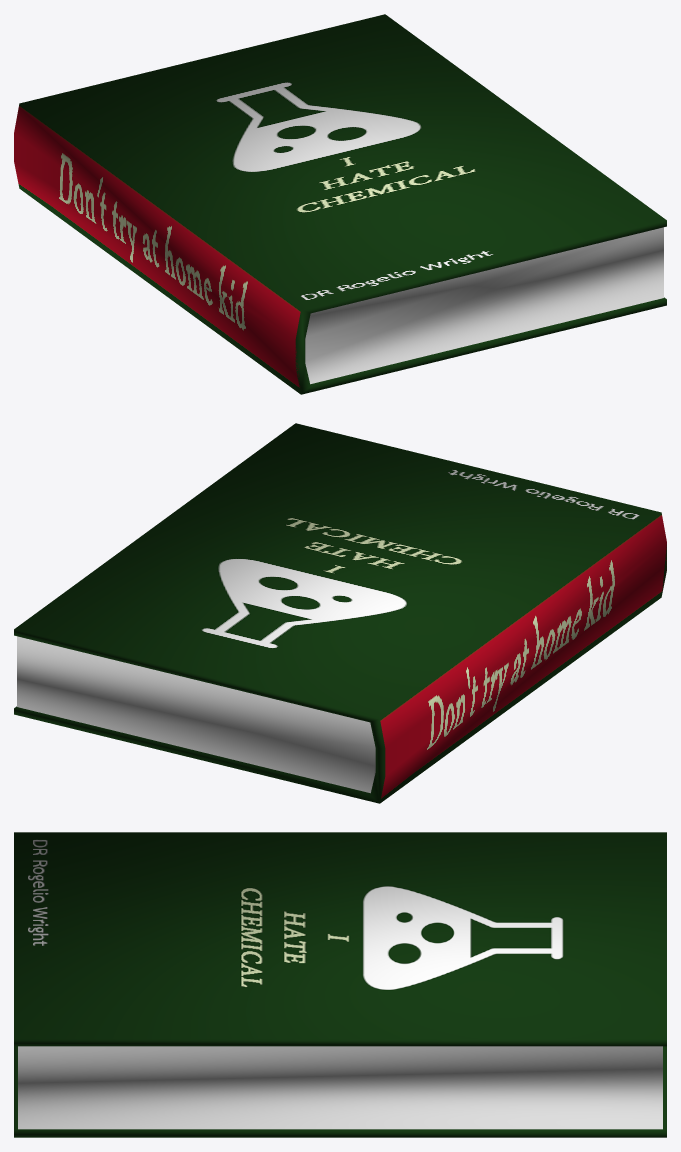
The model's file is Book.fbx.
The picture shows the model from 3 angles, top to bottom: view 1: azimuth 30°, elevation 25°; view 2: azimuth 150°, elevation 25°; view 3: azimuth 270°, elevation 25°; orthographic projection. The views are drawn at different scales.
Visible parts, largest first — view 1: Book; view 2: Book; view 3: Book.
Part boxes in pixels (x1=…): Book: x1=14, y1=14, x2=666, y2=394; Book: x1=14, y1=423, x2=666, y2=803; Book: x1=14, y1=832, x2=666, y2=1137.
Size of the model in its own units: 18.27 by 4 by 24.
2 materials, 2 textured.
